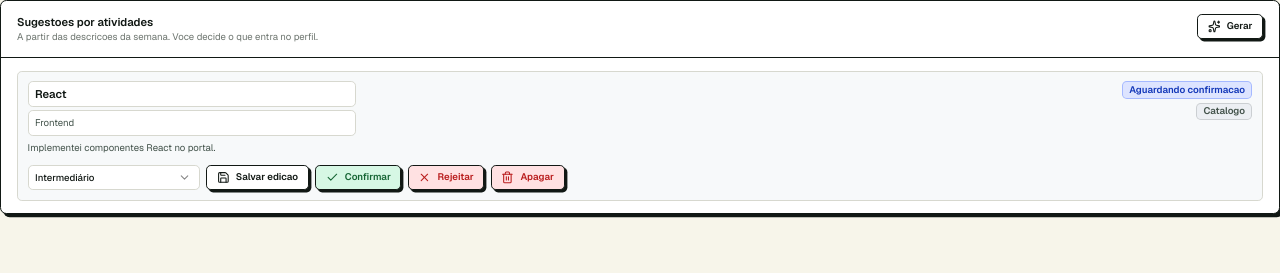
Test case: SkillSuggestionPanel › edits a pending suggestion
Replace the text in the field named "Nome sugerido de React" with "React Testing" at (192, 94), box [28,81,356,107]
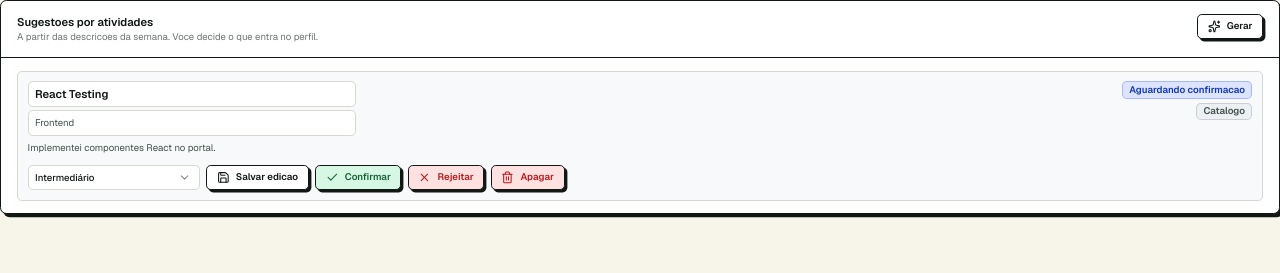
Click the button "Salvar edicao" at (257, 177), box [206,164,309,190]
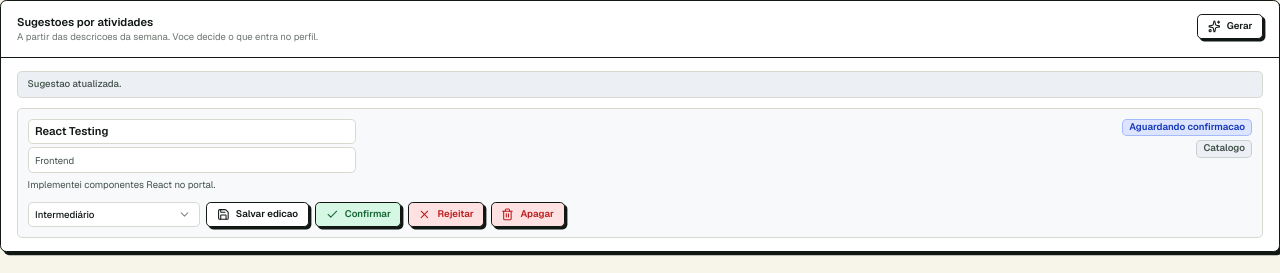
expect the text "Sugestao atualizada." is shown: met, box [17,71,1263,98]
